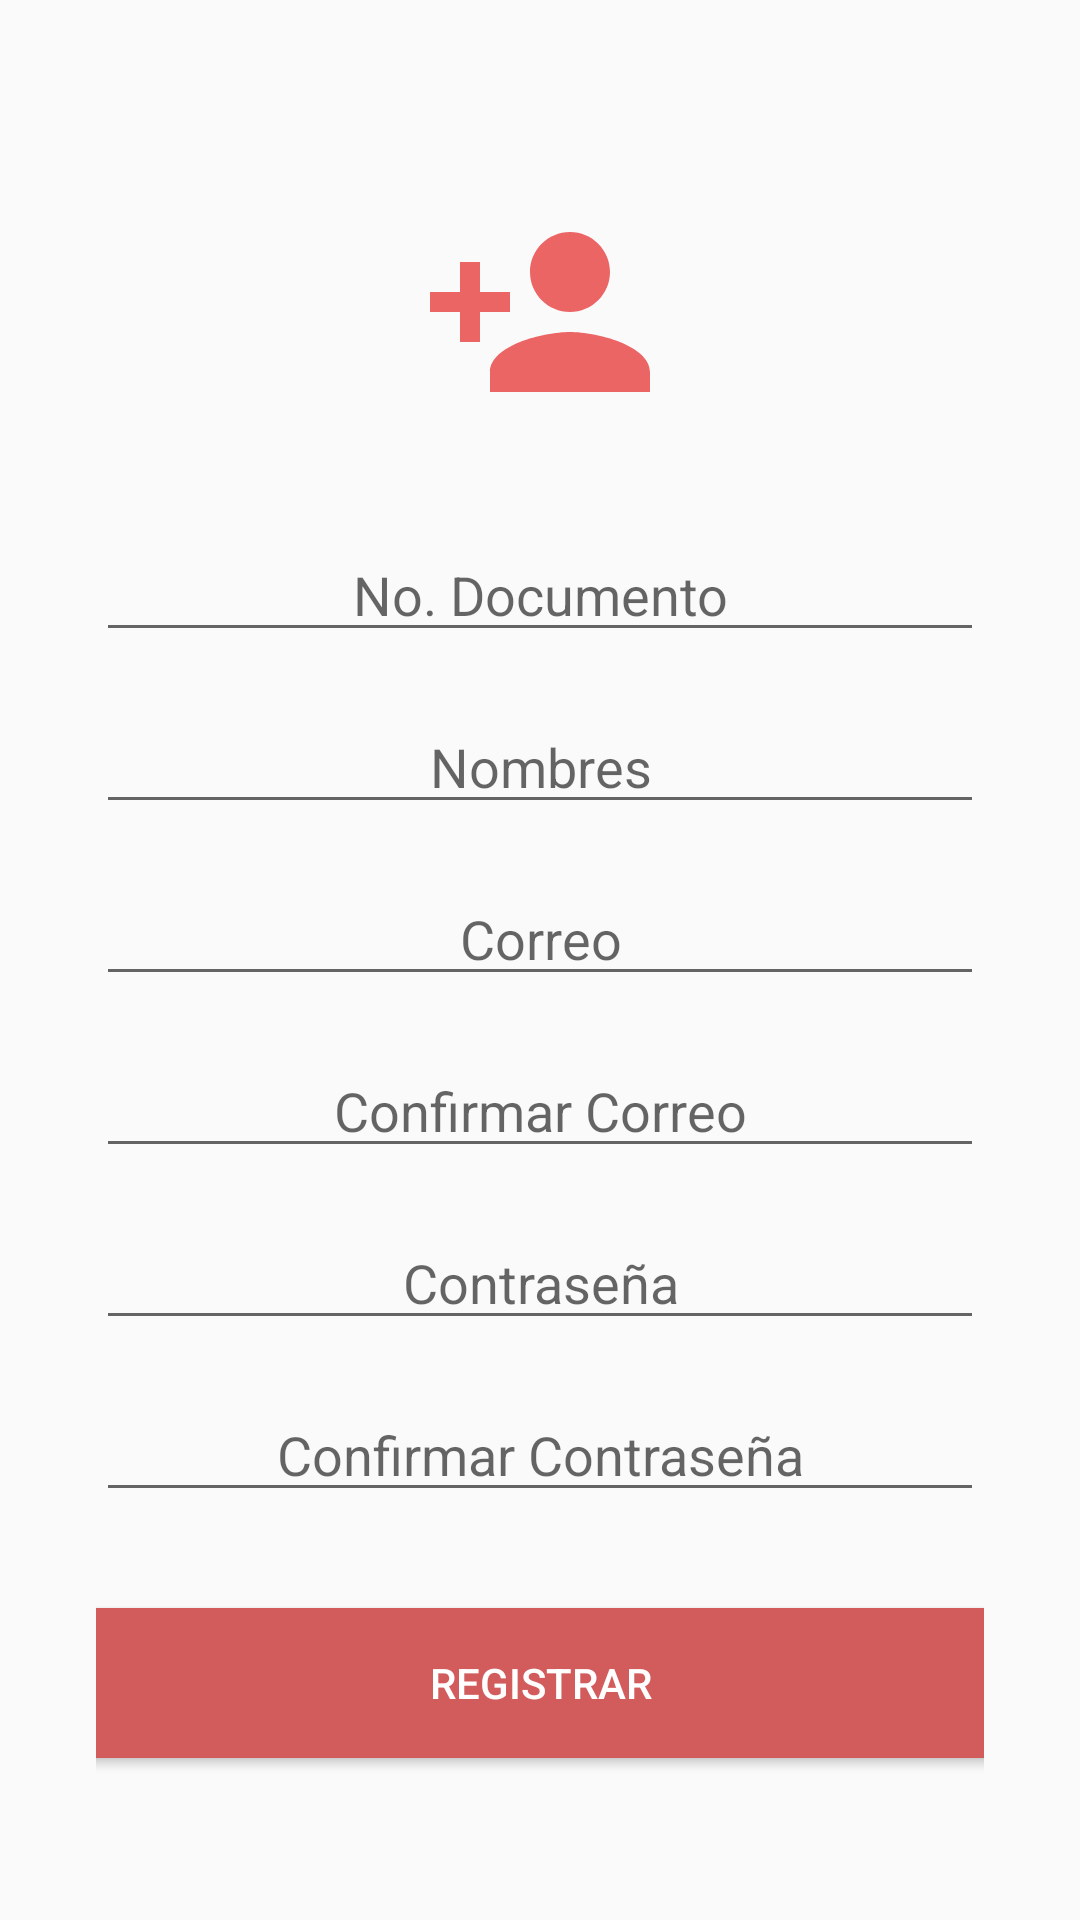

Icon click points for this 1080 × 1920 phone screenshot, format (x=x, y=y):
add: (x=540, y=312)
